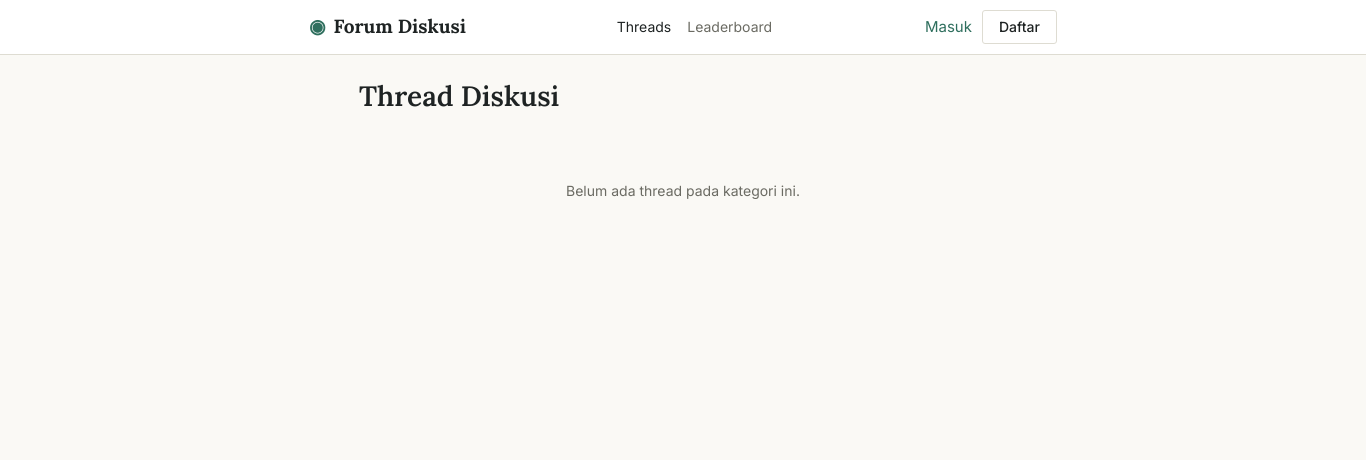
Test: Login Aplikasi Forum Diskusi › menampilkan homepage dan tidak menampilkan tombol "Masuk" dan "Daftar" setelah berhasil login
The image size is (1366, 460).
Click the link "Masuk": (949, 27) 923,11 -> 974,42
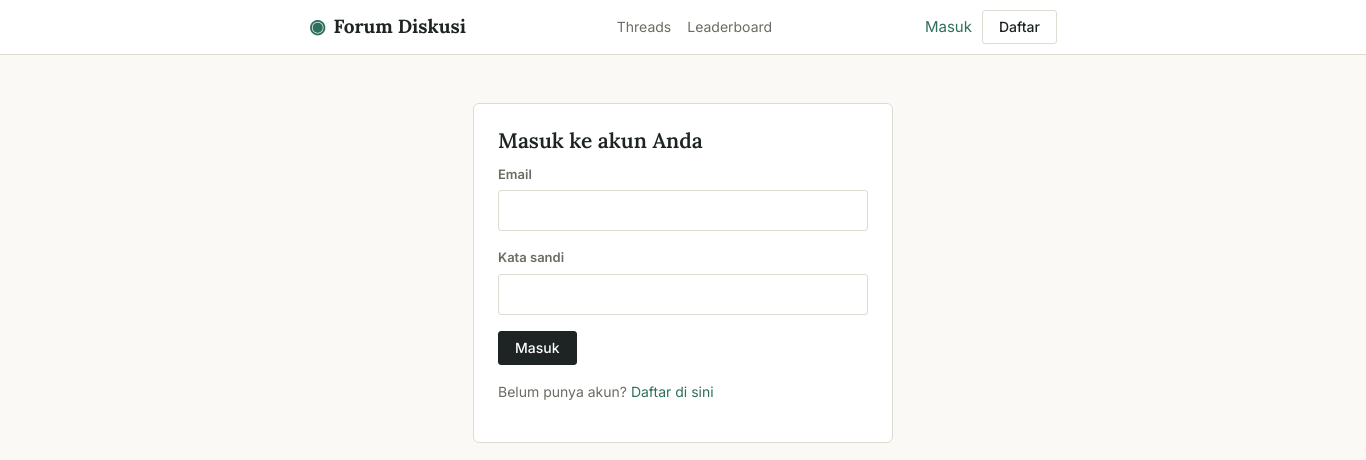
In the field named "email": (683, 211) 498,190 -> 868,231, type "dimas@mail.com"
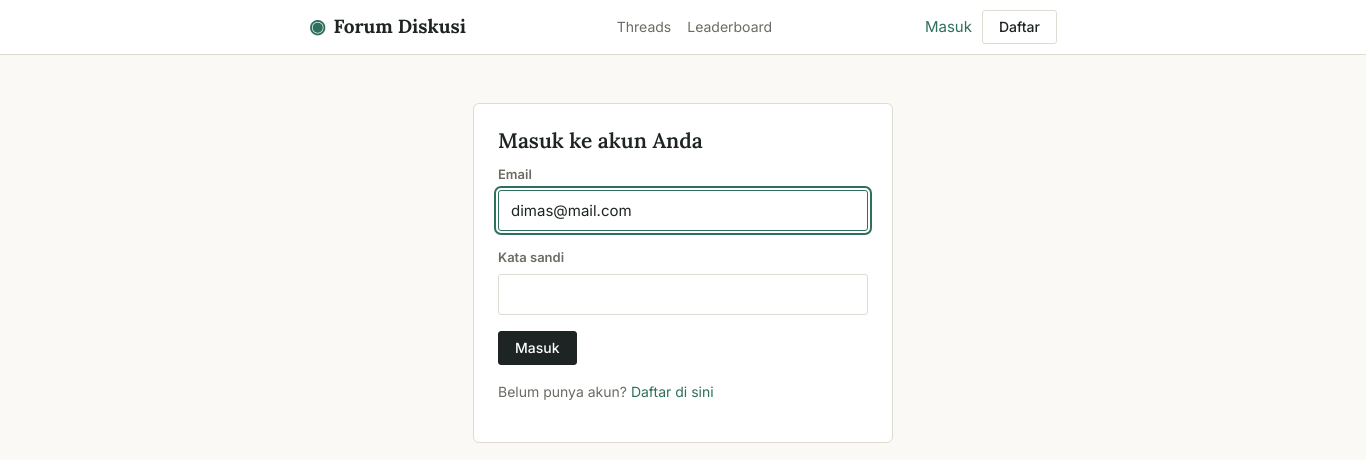
In the password field named "password": (683, 295) 498,274 -> 868,315, type "password_benar"
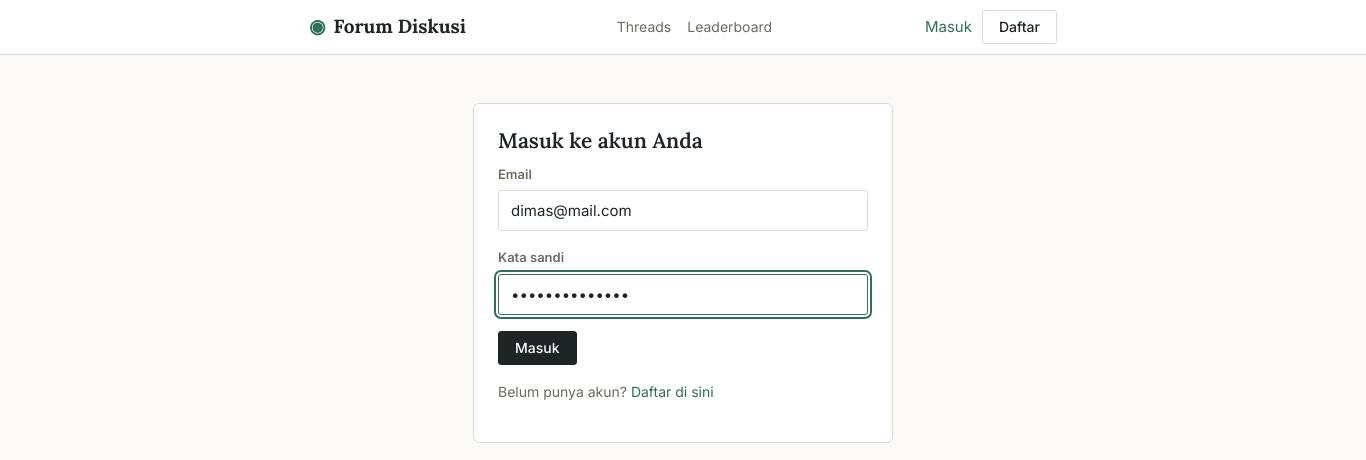
Click the button "Masuk": (538, 348) 498,331 -> 577,365
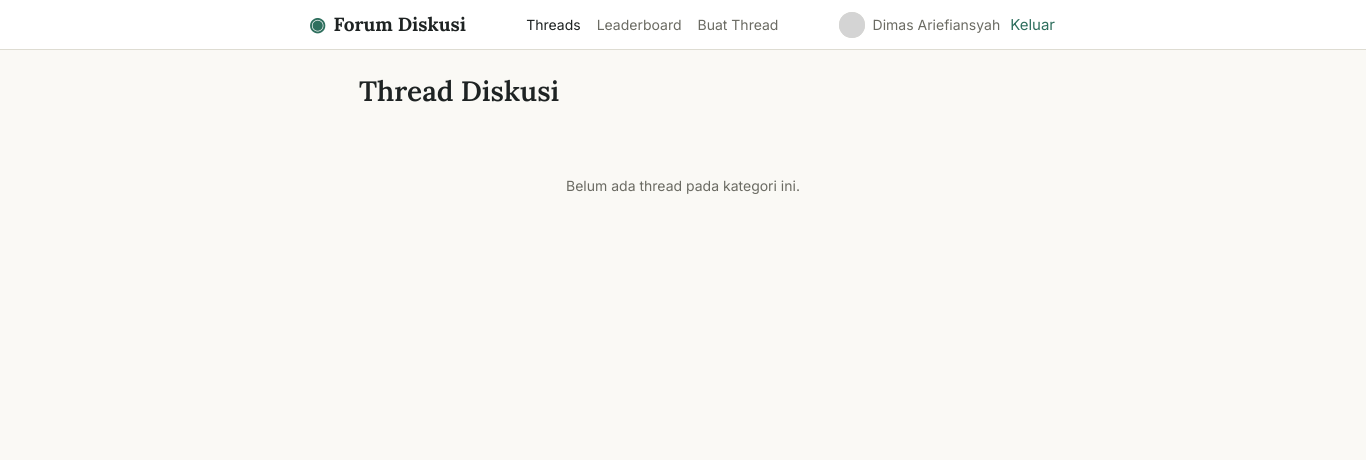
Expected: the text "Dimas Ariefiansyah" is shown, 873,14 -> 1000,36
Expected: the link "Masuk" is gone
Expected: the link "Daftar" is gone
